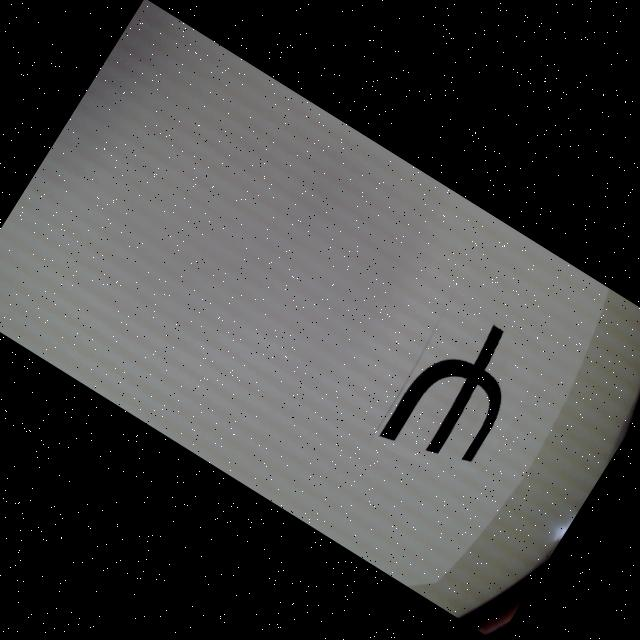PSI: (378, 304, 540, 484)
